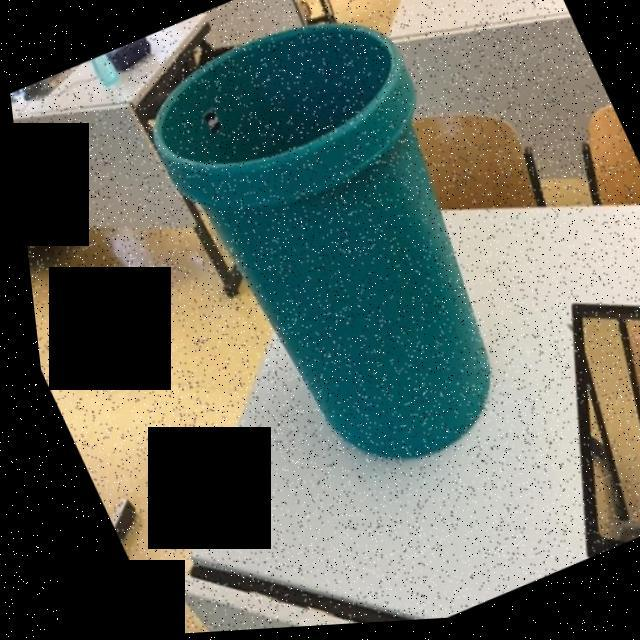bin: (97, 0, 569, 526)
